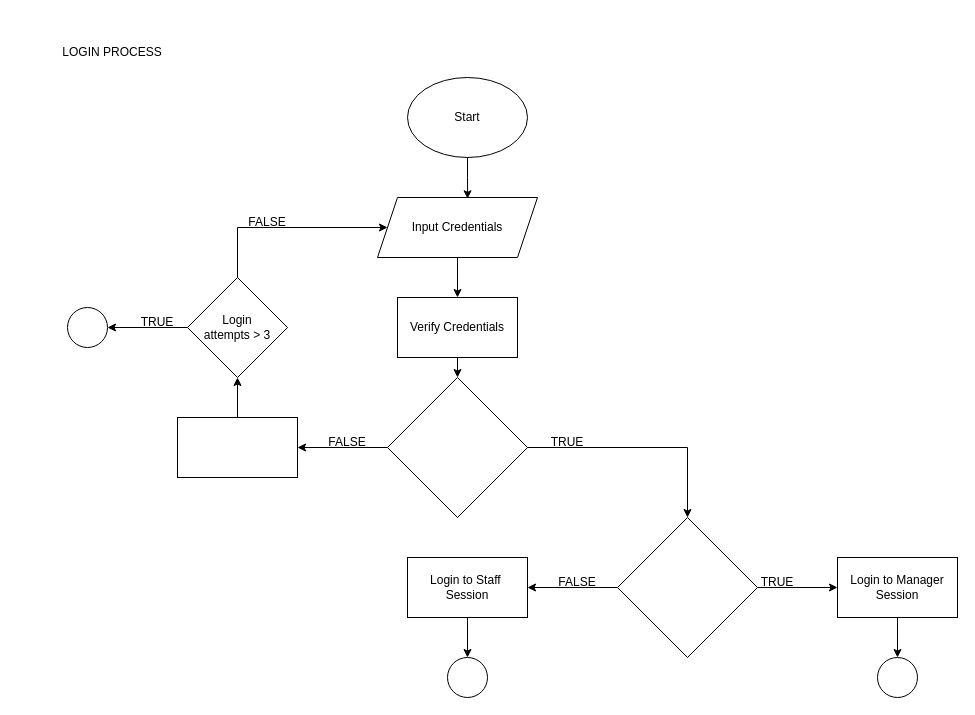
The diagram is 975 pixels wide and 715 high, and some of its shapes have lost their labels. The shapes that lost their labels are listed below. From the top down, each one's centre as x and y in pixels, then its label:
At pixel 237 447: "Login attempt +1".
At pixel 457 447: "Have Access".
At pixel 687 587: "Role is Manager".
